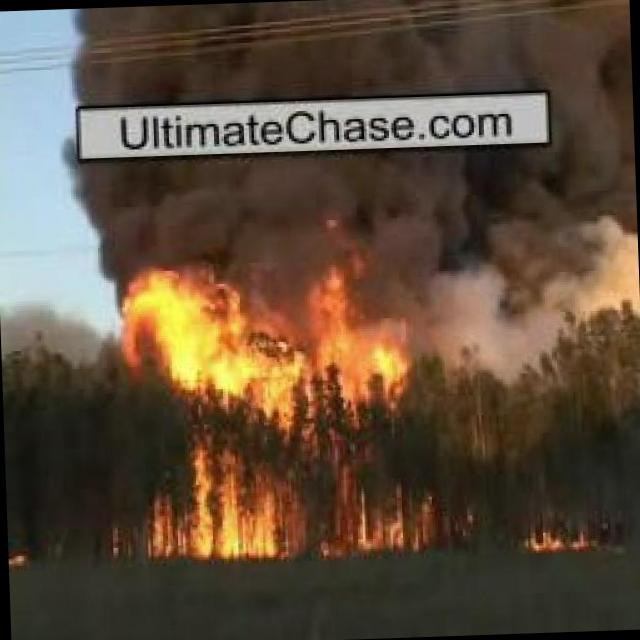Fire: (114, 240, 420, 458), (122, 419, 447, 561), (523, 515, 591, 555)
Smoke: (69, 140, 638, 284), (60, 0, 632, 107)
